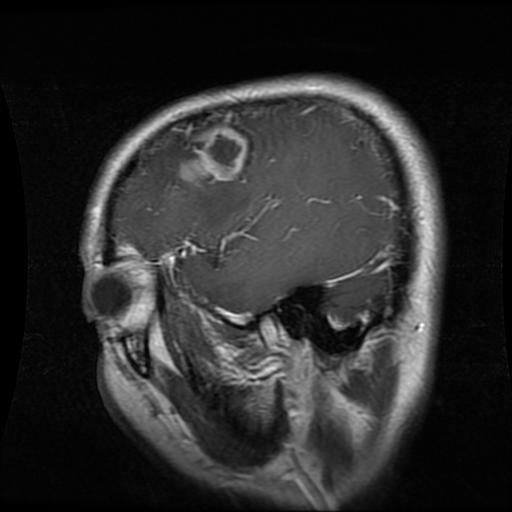Gliomia_tumour: (176, 123, 254, 181)
